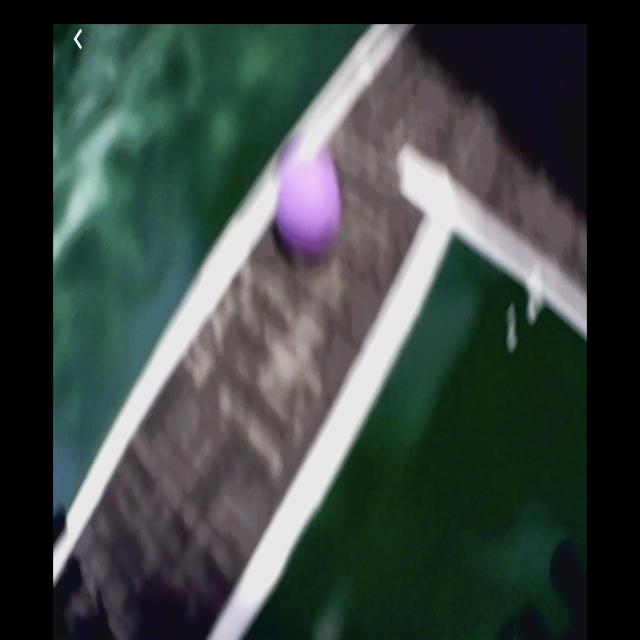ball: (272, 149, 344, 248)
